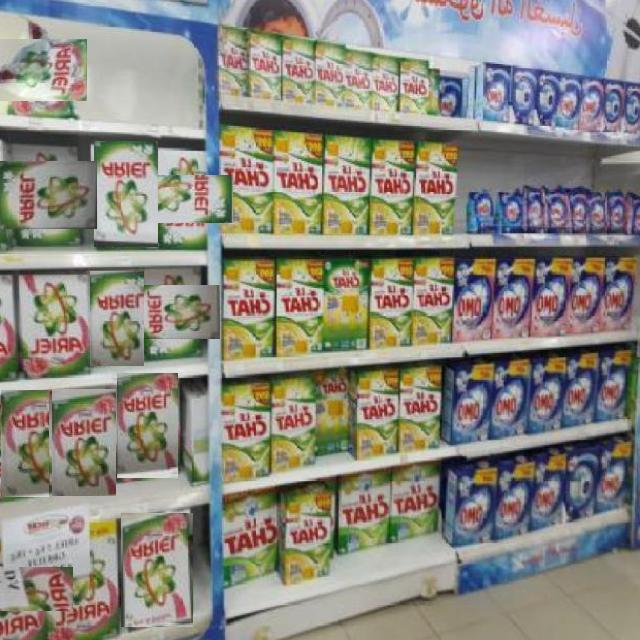Detergent: (44, 514, 121, 640), (20, 260, 89, 379), (121, 513, 193, 627), (52, 388, 116, 496), (94, 140, 158, 247), (0, 161, 97, 229), (117, 373, 178, 478), (0, 38, 87, 101), (0, 390, 49, 497), (90, 270, 144, 366), (126, 285, 220, 339), (130, 174, 233, 223), (0, 566, 73, 611)
